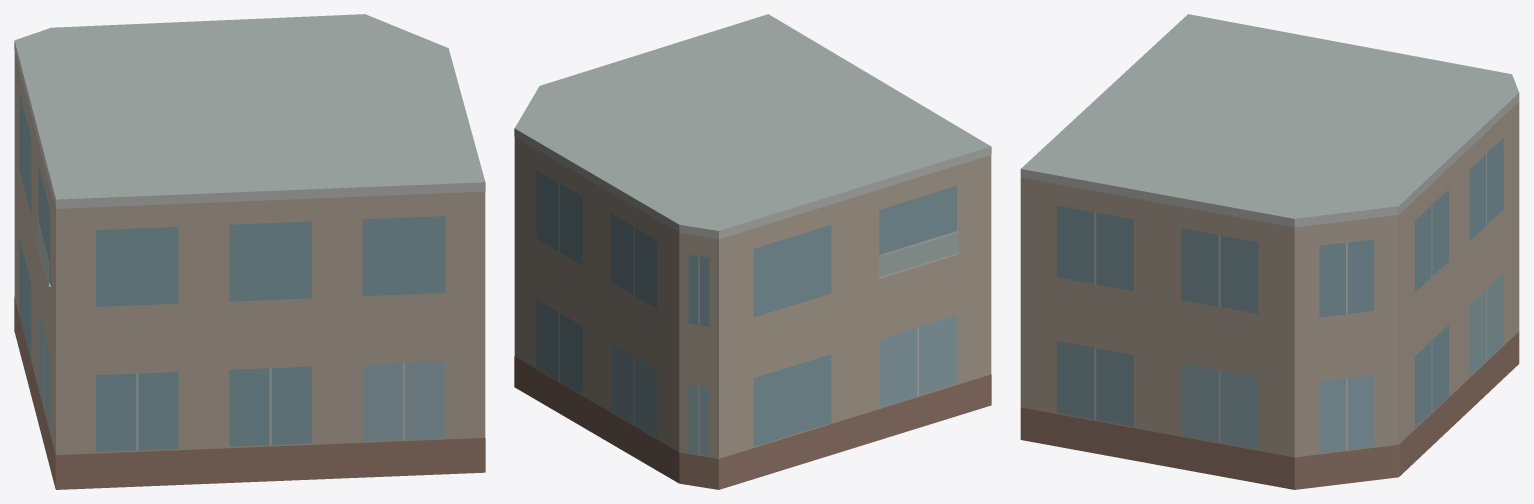
Rendered from survey-upis-32668903.glb.
3 views of the same model, side by side, from view 1: azimuth 30°, elevation 25°; view 2: azimuth 150°, elevation 25°; view 3: azimuth 270°, elevation 25° (orthographic). The views are drawn at different scales.
Parts seen in each view (by area): view 1: survey-upis-32668903.tmp; view 2: survey-upis-32668903.tmp; view 3: survey-upis-32668903.tmp.
Boxes of the visible parts, left/top/right/bottom form: survey-upis-32668903.tmp: left=14, top=14, right=485, bottom=489; survey-upis-32668903.tmp: left=514, top=14, right=991, bottom=489; survey-upis-32668903.tmp: left=1020, top=14, right=1519, bottom=489.
Bounding box in the file's own units: 12.33 × 7.6 × 12.69.
